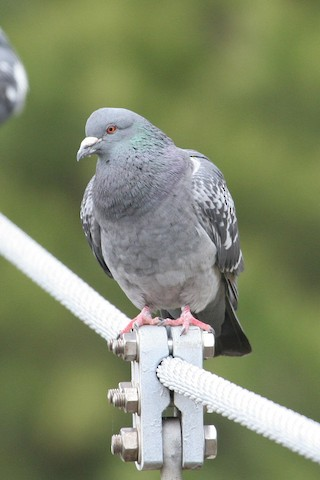pigeon: (71, 105, 258, 361)
